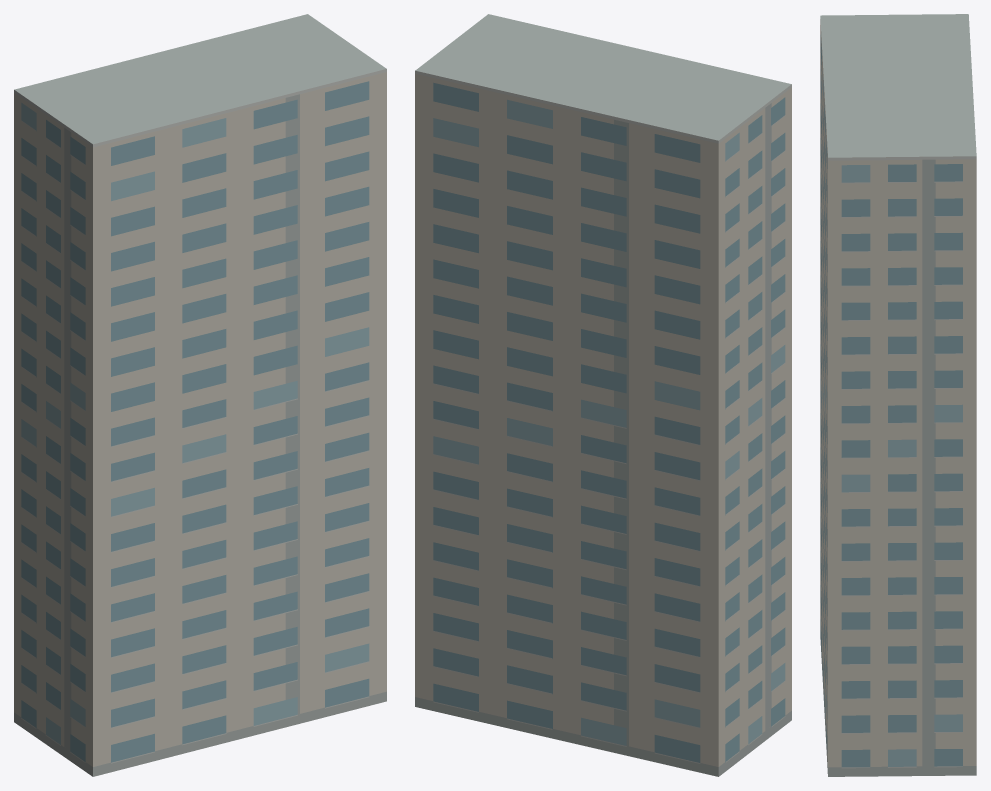
File: residential-0f088ebf-fd05-4359-a88b-d13766e42a8f.glb
3 renders of one model, left to right at view 1: azimuth 30°, elevation 25°; view 2: azimuth 150°, elevation 25°; view 3: azimuth 270°, elevation 25°, orthographic. The views are drawn at different scales.
Parts seen in each view (by area): view 1: residential-0f088ebf-fd05-4359-a88b-d13766e42a8f.tmp; view 2: residential-0f088ebf-fd05-4359-a88b-d13766e42a8f.tmp; view 3: residential-0f088ebf-fd05-4359-a88b-d13766e42a8f.tmp.
Boxes of the visible parts, x1,y1,x2,y2 form: residential-0f088ebf-fd05-4359-a88b-d13766e42a8f.tmp: (14,14,386,776); residential-0f088ebf-fd05-4359-a88b-d13766e42a8f.tmp: (415,14,791,776); residential-0f088ebf-fd05-4359-a88b-d13766e42a8f.tmp: (820,14,976,776).
Size of the model in its own units: 24.9 by 50 by 11.46.
